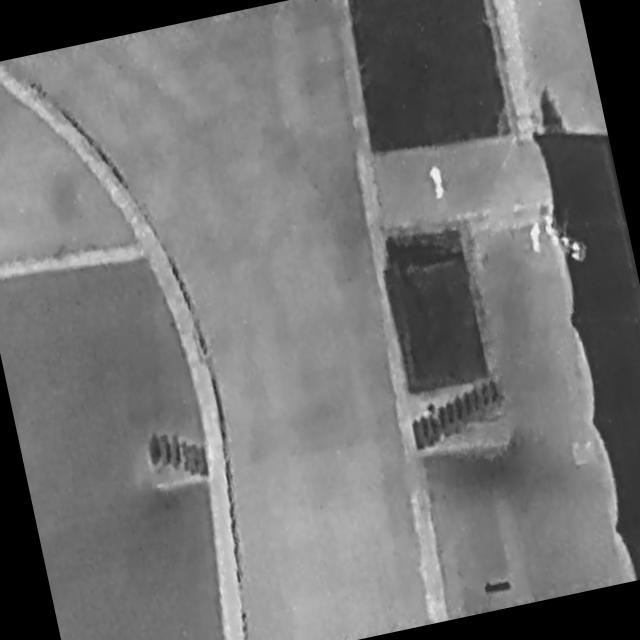person: (524, 216, 550, 260), (426, 161, 450, 202)
